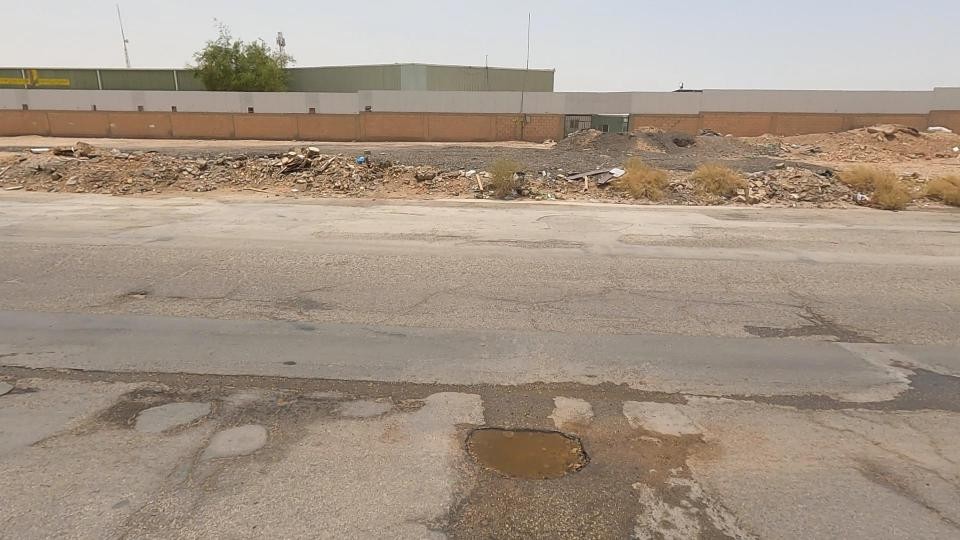GARBAGE: (511, 125, 682, 235), (143, 121, 252, 221), (415, 136, 527, 229), (308, 127, 418, 204)
POTHOLES: (3, 294, 425, 531), (320, 315, 755, 540), (566, 368, 786, 540), (310, 311, 465, 483)
